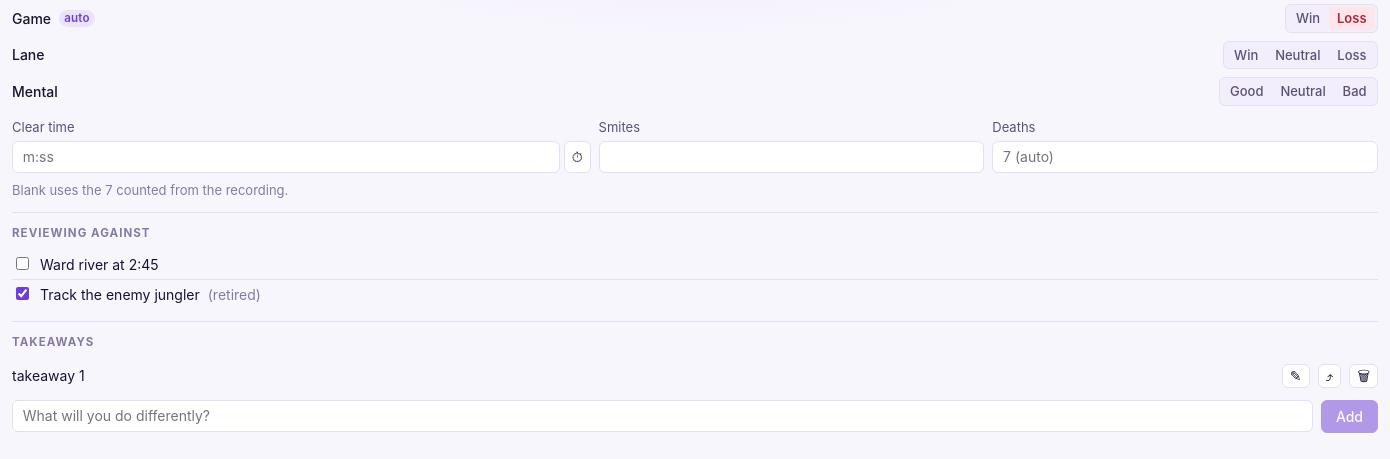
Test: takeaways › edits one in place: Enter saves, and the row shows the new text
Click the button named "Edit takeaway".
click(1296, 376)  # box left=1282, top=364, right=1310, bottom=388
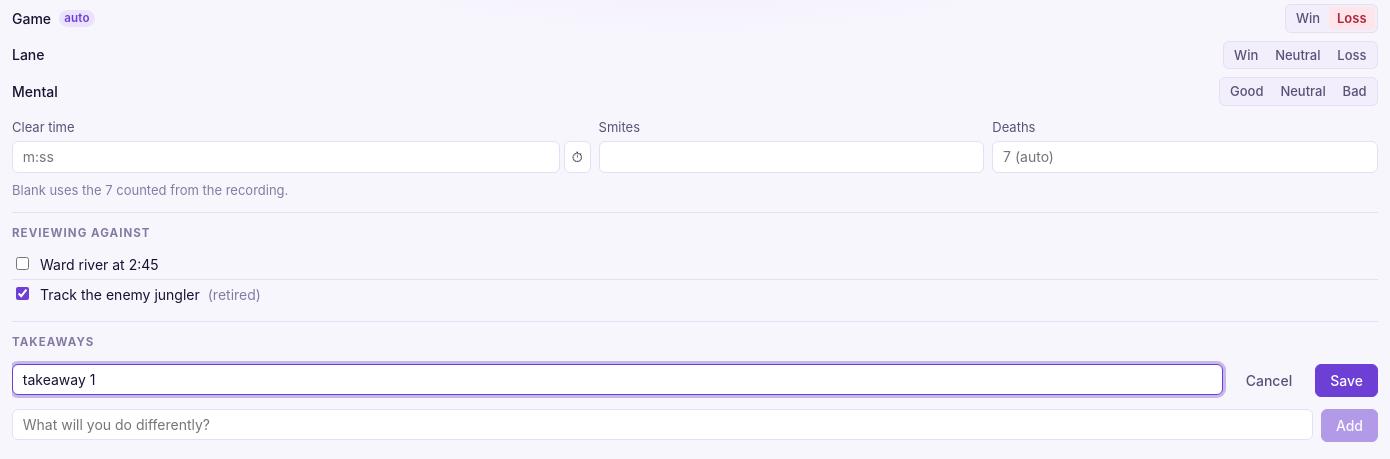
Expected: the text box named "Takeaway" holds "takeaway 1"
Replace the text in the text box named "Takeaway" with "Base with no resources" at x=617, y=379, box left=12, top=364, right=1223, bottom=395
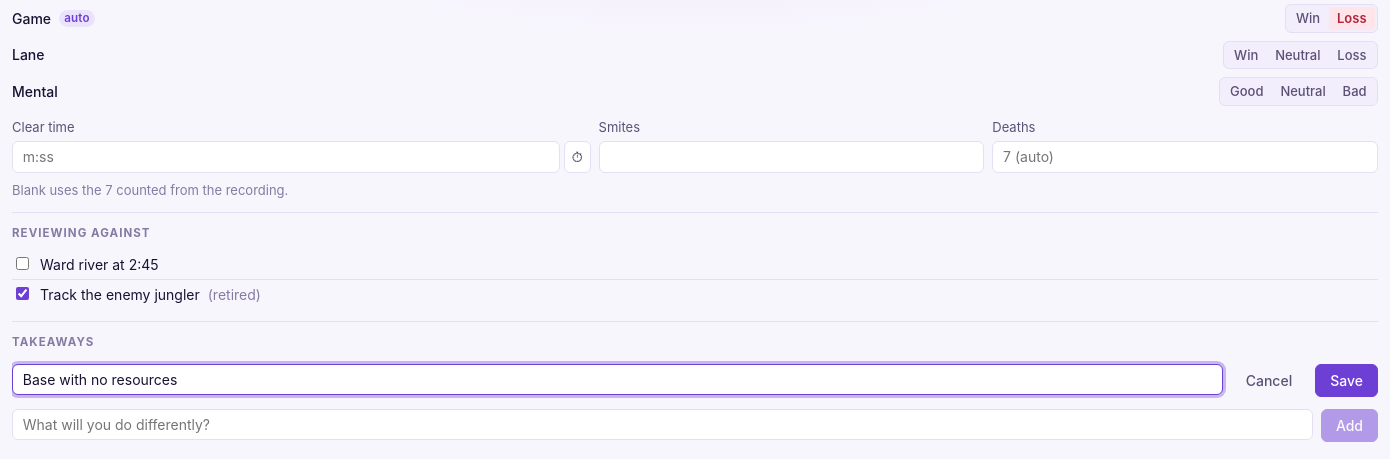
Press Enter in the text box named "Takeaway", box left=12, top=364, right=1223, bottom=395
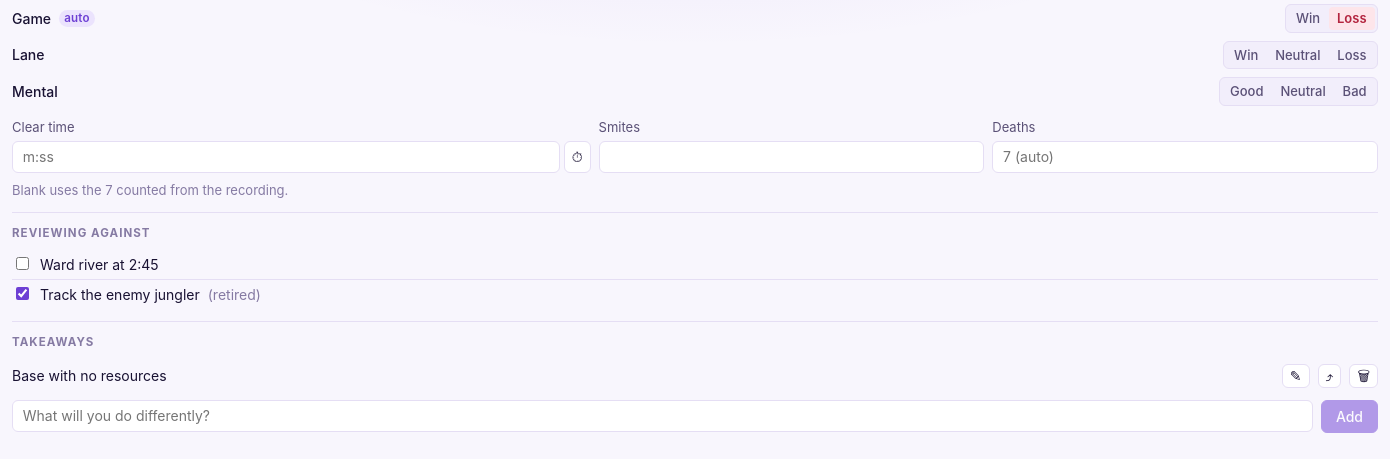
Expected: the text box named "Takeaway" is gone
Expected: the text with class "takeaway-body" reads "Base with no resources", left=12, top=367, right=167, bottom=384
